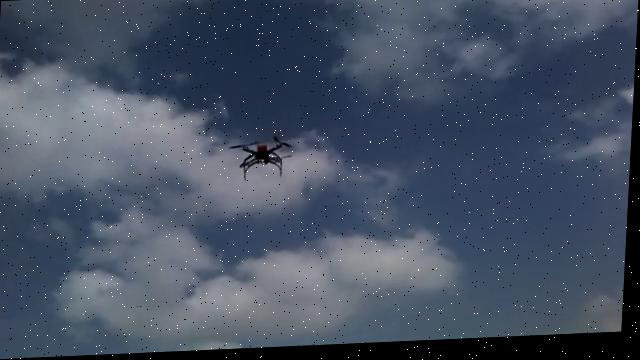drone: (228, 135, 295, 182)
